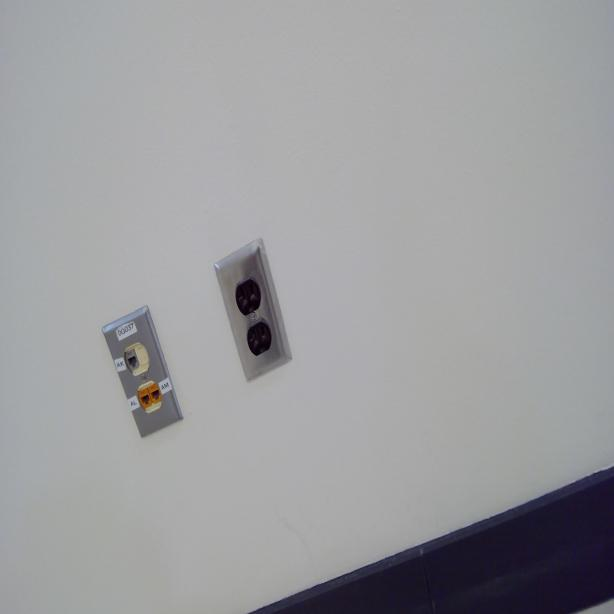typeb: (234, 277, 260, 312), (246, 321, 270, 355)
